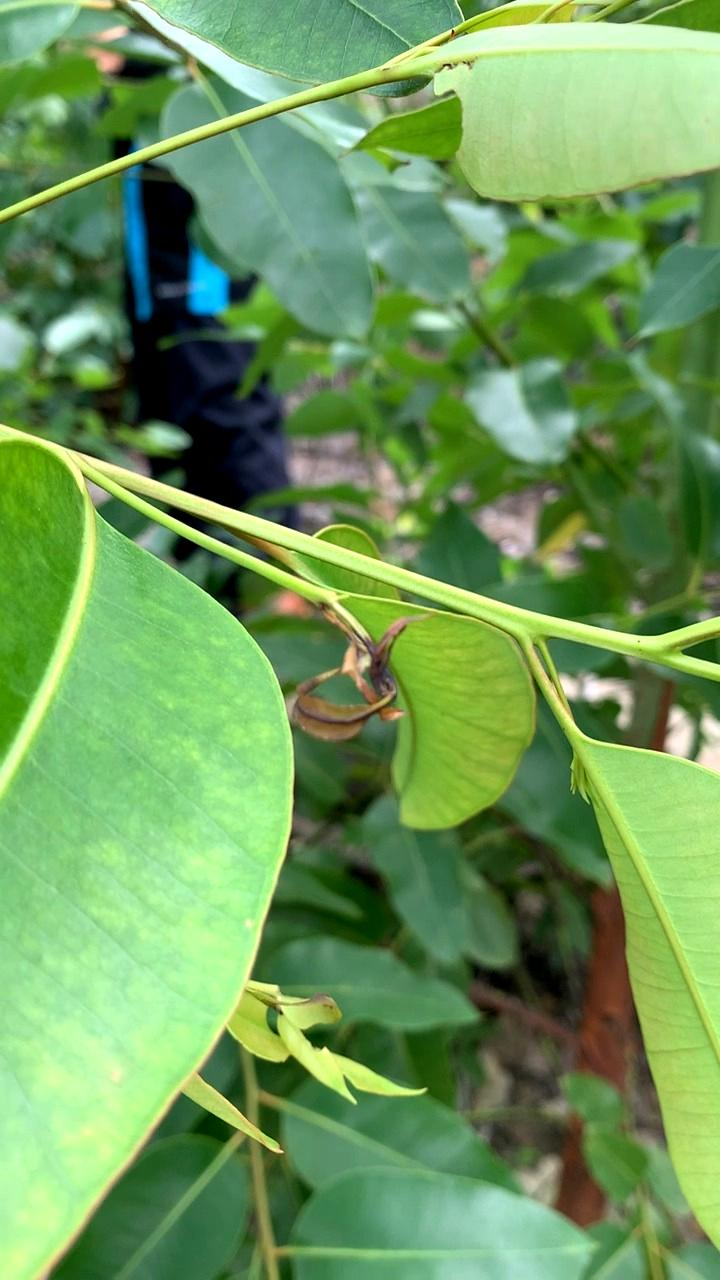Helopeltis-Withered Sprout: (288, 630, 423, 751)
